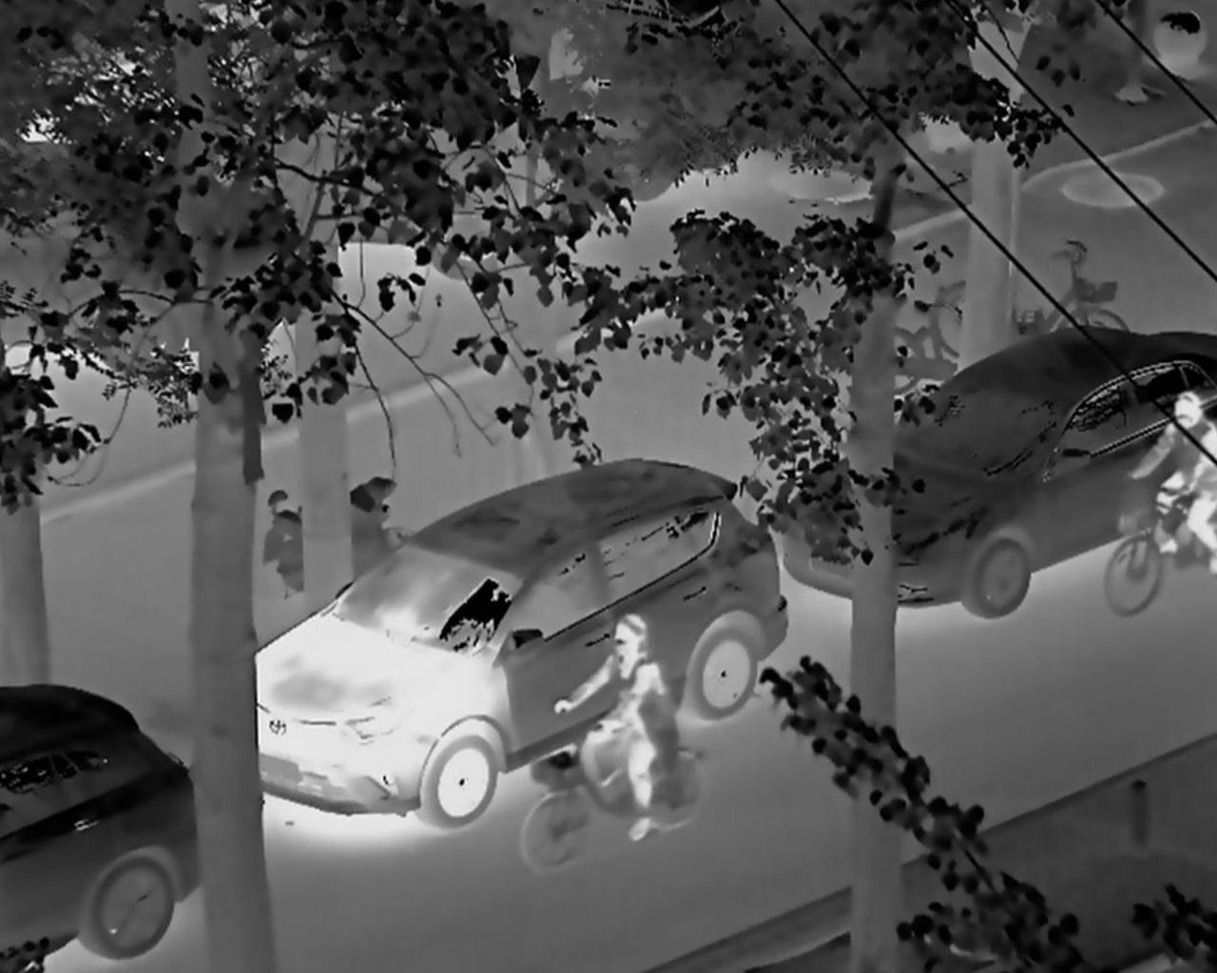person: (534, 608, 696, 878), (1134, 391, 1217, 566)
